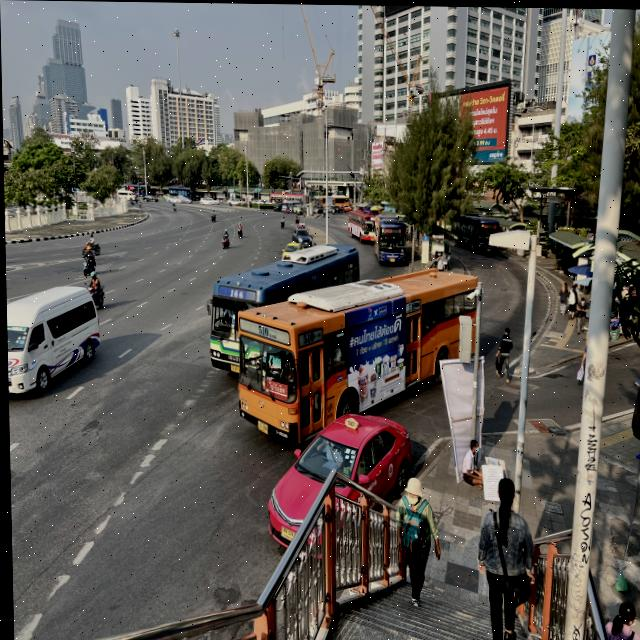BMTA-bus: (235, 264, 477, 445), (203, 241, 362, 374), (347, 205, 374, 243)
Bus Line Number: (255, 323, 277, 340), (301, 326, 320, 345), (228, 288, 243, 299), (491, 223, 496, 228), (397, 227, 401, 233)
Bus Side Number: (272, 427, 287, 438), (399, 252, 404, 254)
Destination Sign: (263, 377, 287, 400), (383, 226, 392, 233), (482, 222, 491, 228)
TSB-Bus: (452, 211, 502, 254), (375, 204, 408, 265)
